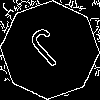J: (25, 25, 75, 76)
